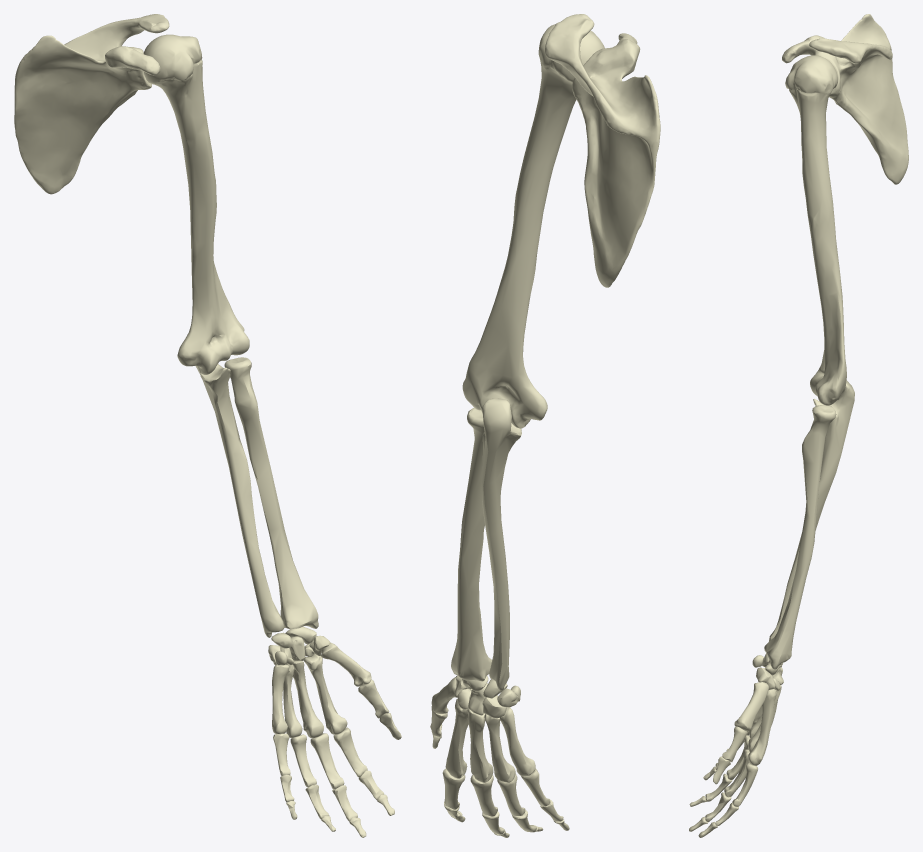
Rendered from left arm.fbx.
3 renders of one model, left to right at view 1: azimuth 30°, elevation 25°; view 2: azimuth 150°, elevation 25°; view 3: azimuth 270°, elevation 25°, orthographic. The views are drawn at different scales.
Parts seen in each view (by area): view 1: Left scapula, Left humerus, Left radius, Left ulna, Left second metacarpal bone, Left third metacarpal bone, Left fifth metacarpal bone, Left first metacarpal bone, Proximal phalanx of left middle finge, Left fourth metacarpal bone; view 2: Left scapula, Left humerus, Left ulna, Left radius, Left third metacarpal bone, Left second metacarpal bone, Left fifth metacarpal bone, Left fourth metacarpal bone, Proximal phalanx of left middle finge, Proximal phalanx of left index finger, Proximal phalanx of left ring finger, Left first metacarpal bone (+1 smaller); view 3: Left humerus, Left scapula, Left radius, Left ulna, Left second metacarpal bone, Left first metacarpal bone.
Part boxes in pixels (x1,y1,x2,y2): Left scapula: [14, 14, 169, 194]; Left humerus: [144, 34, 249, 374]; Left radius: [224, 357, 318, 629]; Left ulna: [195, 363, 284, 637]; Left second metacarpal bone: [304, 654, 347, 734]; Left third metacarpal bone: [293, 660, 323, 738]; Left fifth metacarpal bone: [272, 664, 288, 733]; Left first metacarpal bone: [321, 642, 371, 686]; Proximal phalanx of left middle finge: [310, 733, 344, 788]; Left fourth metacarpal bone: [283, 664, 302, 738]; Left scapula: [545, 14, 660, 287]; Left humerus: [462, 24, 604, 428]; Left ulna: [482, 398, 521, 690]; Left radius: [451, 407, 491, 681]; Left third metacarpal bone: [467, 709, 493, 782]; Left second metacarpal bone: [445, 698, 468, 778]; Left fifth metacarpal bone: [500, 707, 535, 776]; Left fourth metacarpal bone: [485, 714, 515, 782]; Proximal phalanx of left middle finge: [470, 775, 497, 816]; Proximal phalanx of left index finger: [442, 768, 465, 809]; Proximal phalanx of left ring finger: [497, 774, 525, 815]; Left first metacarpal bone: [431, 677, 456, 713]; Left humerus: [785, 55, 846, 405]; Left scapula: [782, 14, 908, 184]; Left radius: [764, 405, 836, 669]; Left ulna: [769, 380, 854, 641]; Left second metacarpal bone: [748, 689, 776, 765]; Left first metacarpal bone: [734, 682, 768, 731].
Size of the model in its own units: 2669 by 6985 by 1904.
